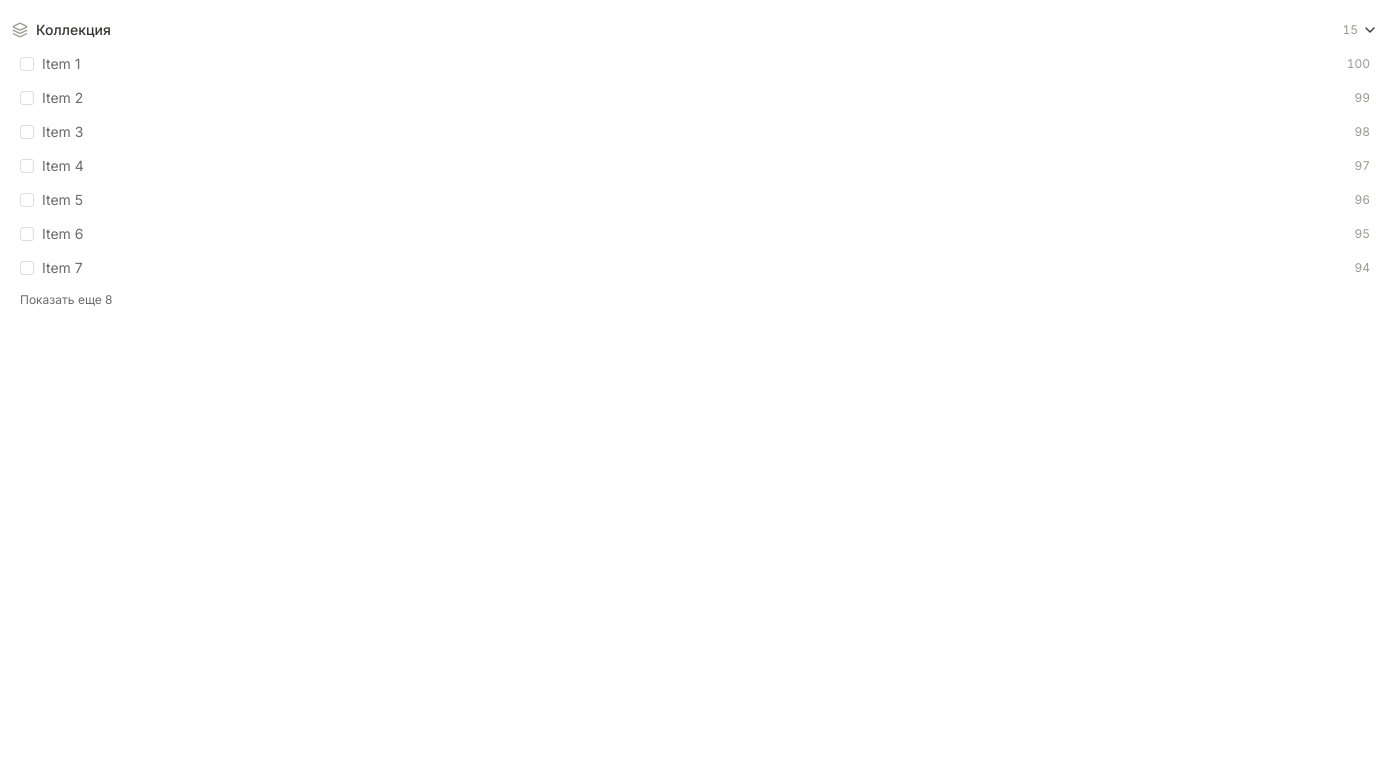
Scenario: FilterSection — search & show more › expands all items when “Показать еще” is clicked
What coordinates should you click on to do the following:
click the button "Показать еще 8"
I would click on:
 (66, 300)
Its box is [12,286,120,314].
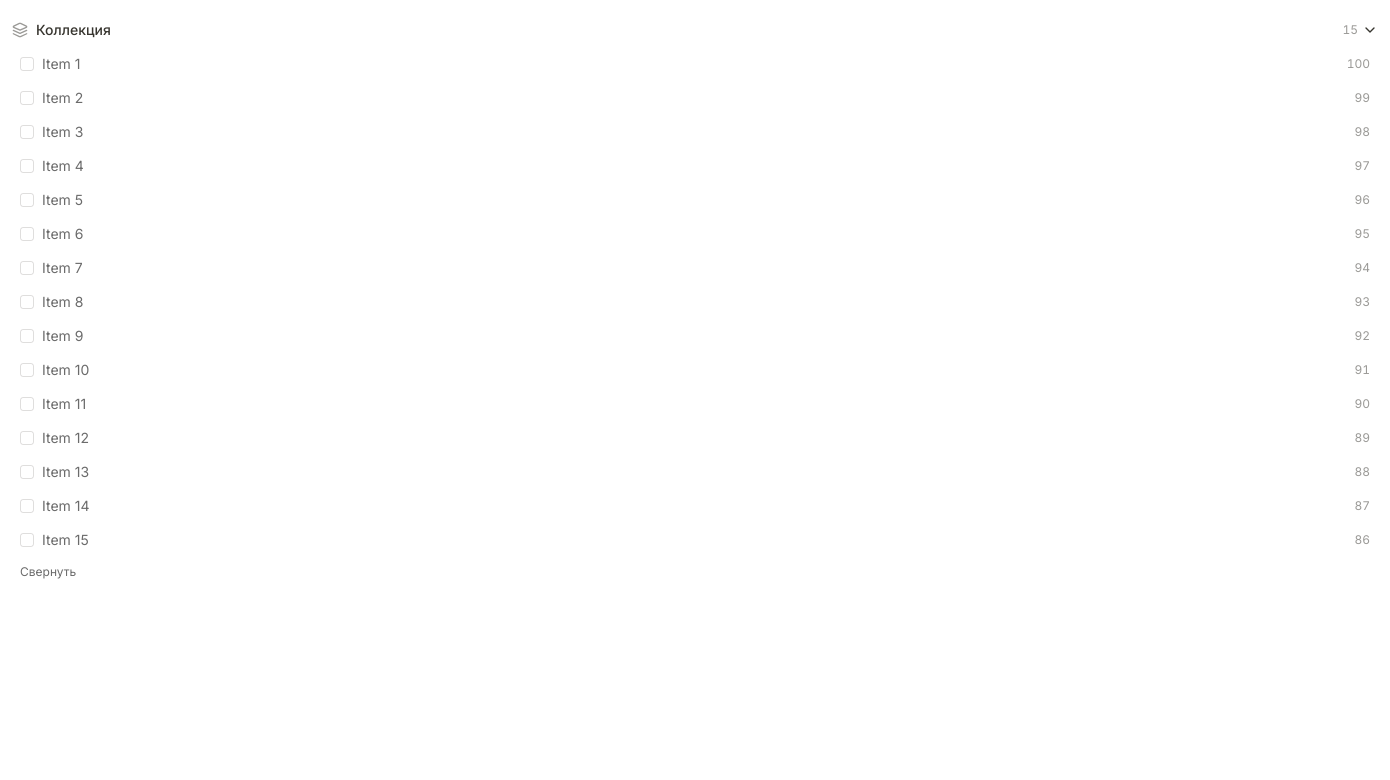
Expected: the number of checkboxes is 15
Expected: the button "Свернуть" is shown, [12,558,84,586]
